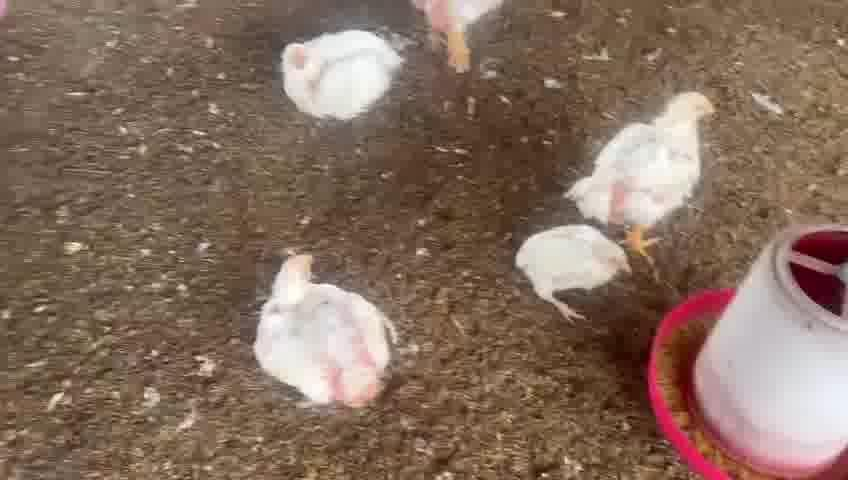AbNormal: (254, 251, 394, 407), (515, 221, 632, 319), (281, 30, 403, 121)
Normal: (583, 90, 718, 259), (407, 1, 504, 73)
